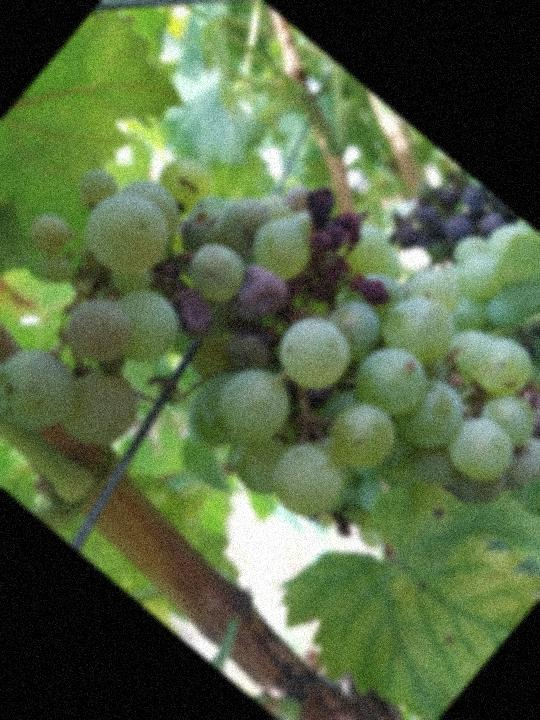grape: (0, 45, 540, 712)
